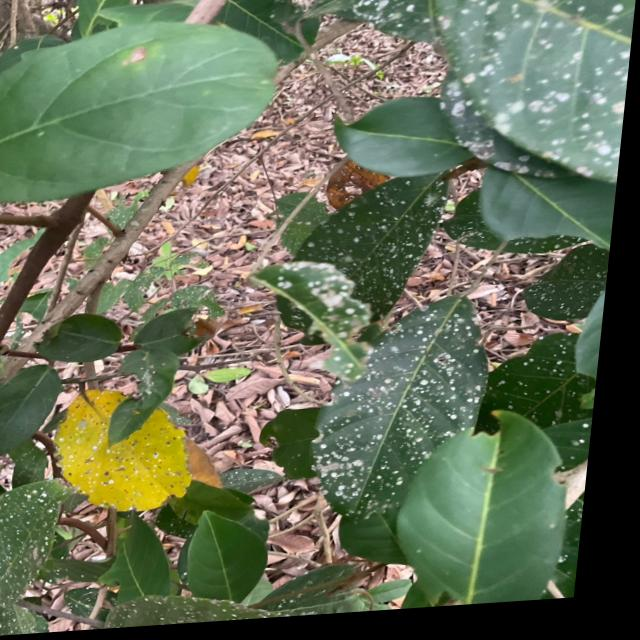Algal Leaf Spot: (336, 0, 640, 162), (324, 319, 504, 537), (291, 178, 424, 375), (0, 456, 99, 640), (119, 586, 362, 631)
